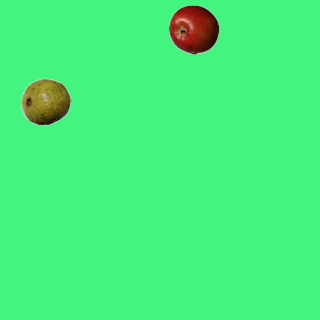Apple Braeburn: (168, 4, 218, 54)
Guava: (20, 76, 70, 126)
